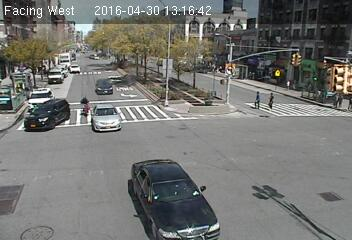neg: (35, 36, 57, 66), (172, 58, 194, 87), (94, 37, 115, 66), (131, 46, 150, 71), (235, 59, 249, 78), (66, 49, 78, 66), (253, 62, 265, 78)
pos: (265, 90, 280, 110), (249, 89, 264, 109), (331, 92, 343, 108), (284, 78, 294, 90)
